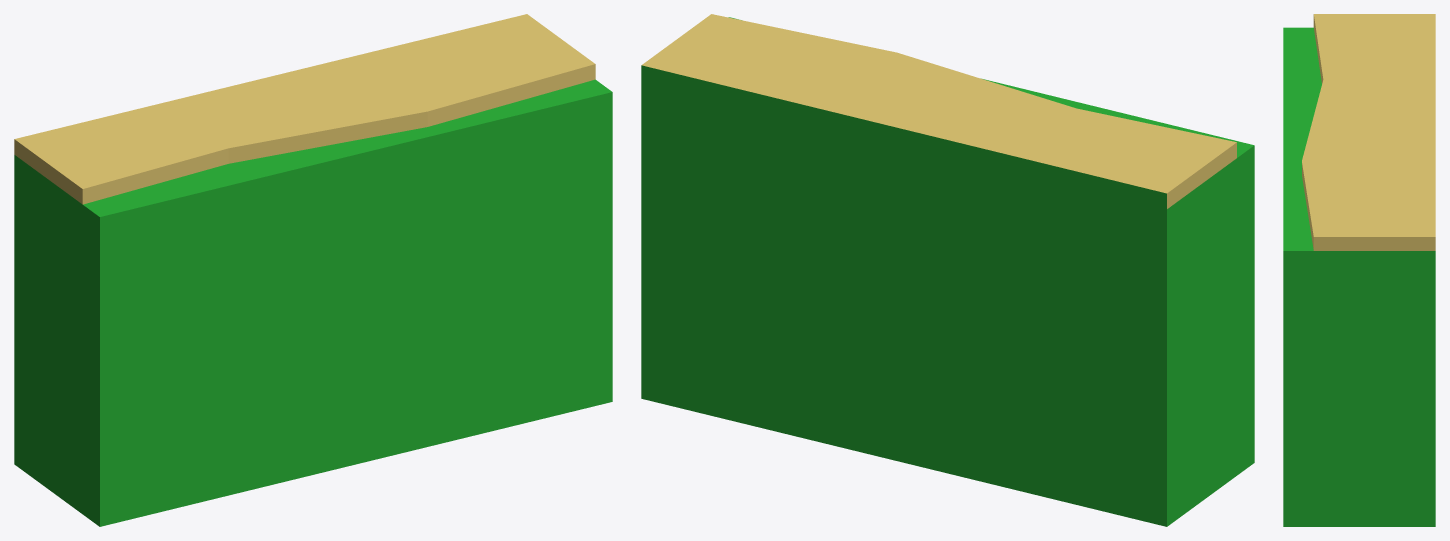
Rendered from module-edge_land_path_002.glb.
The picture shows the model from 3 angles, left to right: view 1: azimuth 30°, elevation 25°; view 2: azimuth 150°, elevation 25°; view 3: azimuth 270°, elevation 25°; orthographic projection. The views are drawn at different scales.
Parts seen in each view (by area): view 1: module-edge_land_path_002; view 2: module-edge_land_path_002; view 3: module-edge_land_path_002.
Part boxes in pixels (left/top/right/bottom): module-edge_land_path_002: left=14, top=14, right=612, bottom=526; module-edge_land_path_002: left=641, top=14, right=1254, bottom=526; module-edge_land_path_002: left=1283, top=14, right=1435, bottom=526.
Bounding box in the file's own units: 0.866 × 0.525 × 0.25.
